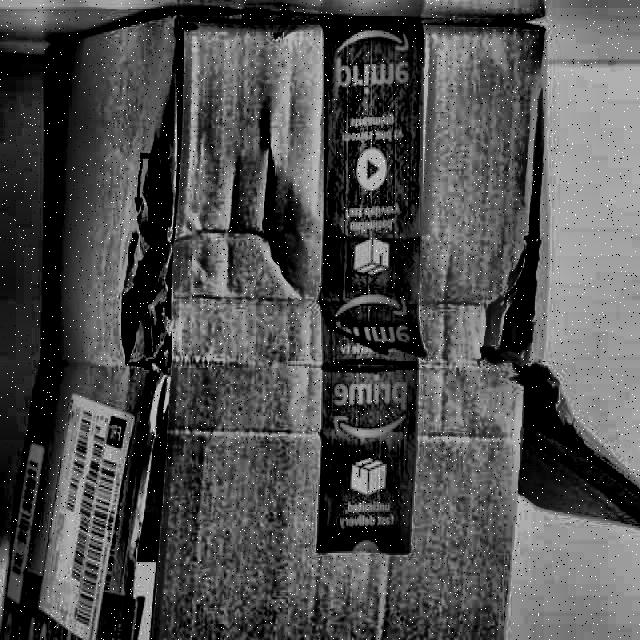box: (0, 2, 639, 640)
hole: (106, 132, 196, 365), (465, 233, 541, 375)
